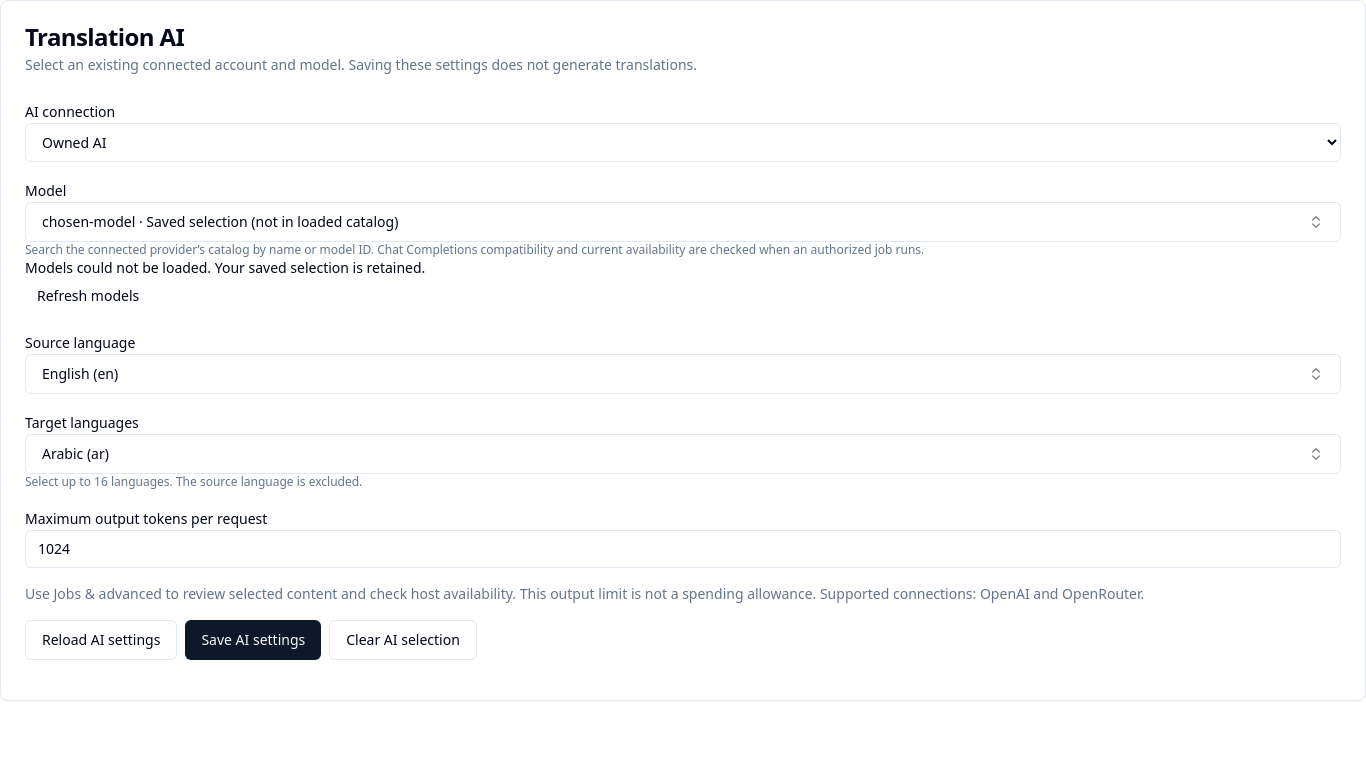
Test: Translation AI settings › redacts catalog errors, retains selection and supports explicit refresh
Check: the text "Models could not be loaded. Your saved selection is retained." is shown, box [25, 258, 425, 277]
Check: the dropdown labelled "model" shows "chosen-model", box [25, 202, 1341, 242]
Click the button "Refresh models" at (88, 296), box [25, 278, 151, 314]
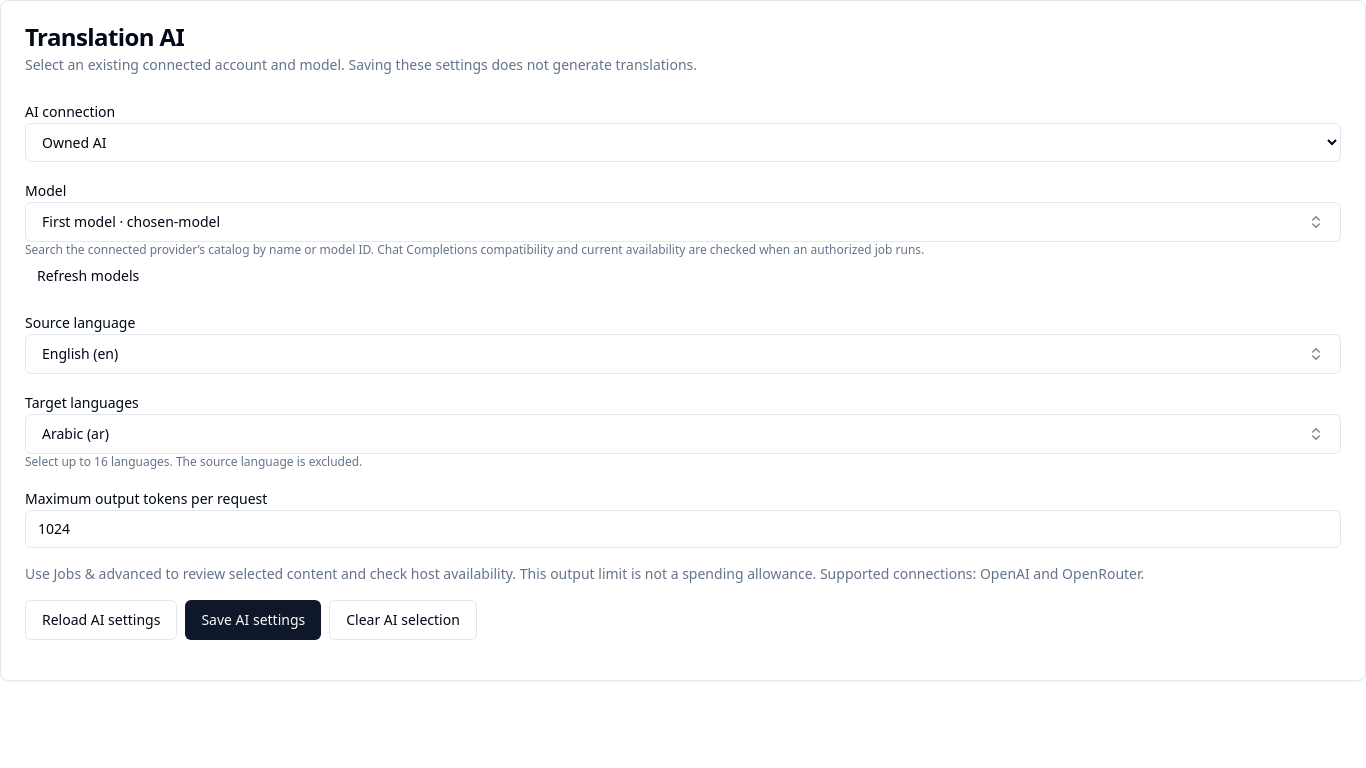
Check: the text "Models could not be loaded" is gone
